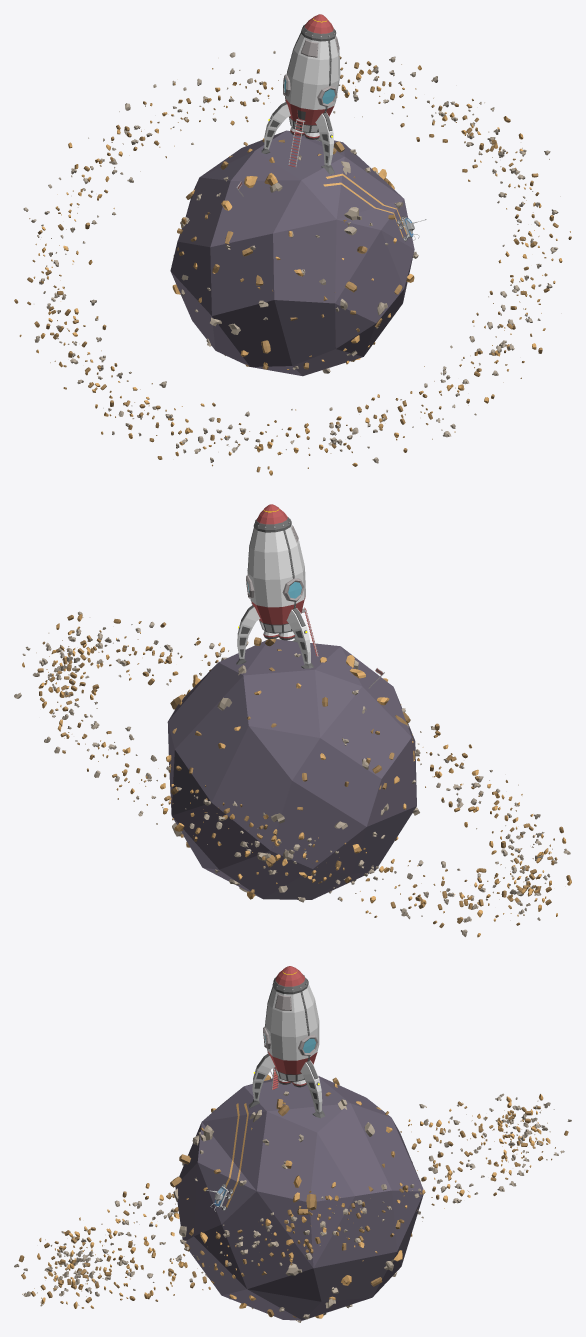
File: space_exploration_wlp_series_8.glb
3 renders of one model, top to bottom at view 1: azimuth 30°, elevation 25°; view 2: azimuth 150°, elevation 25°; view 3: azimuth 270°, elevation 25°, orthographic. The views are drawn at different scales.
Bounding box in the file's own units: 30.54 × 22.89 × 31.63.
1 material, 1 textured.
